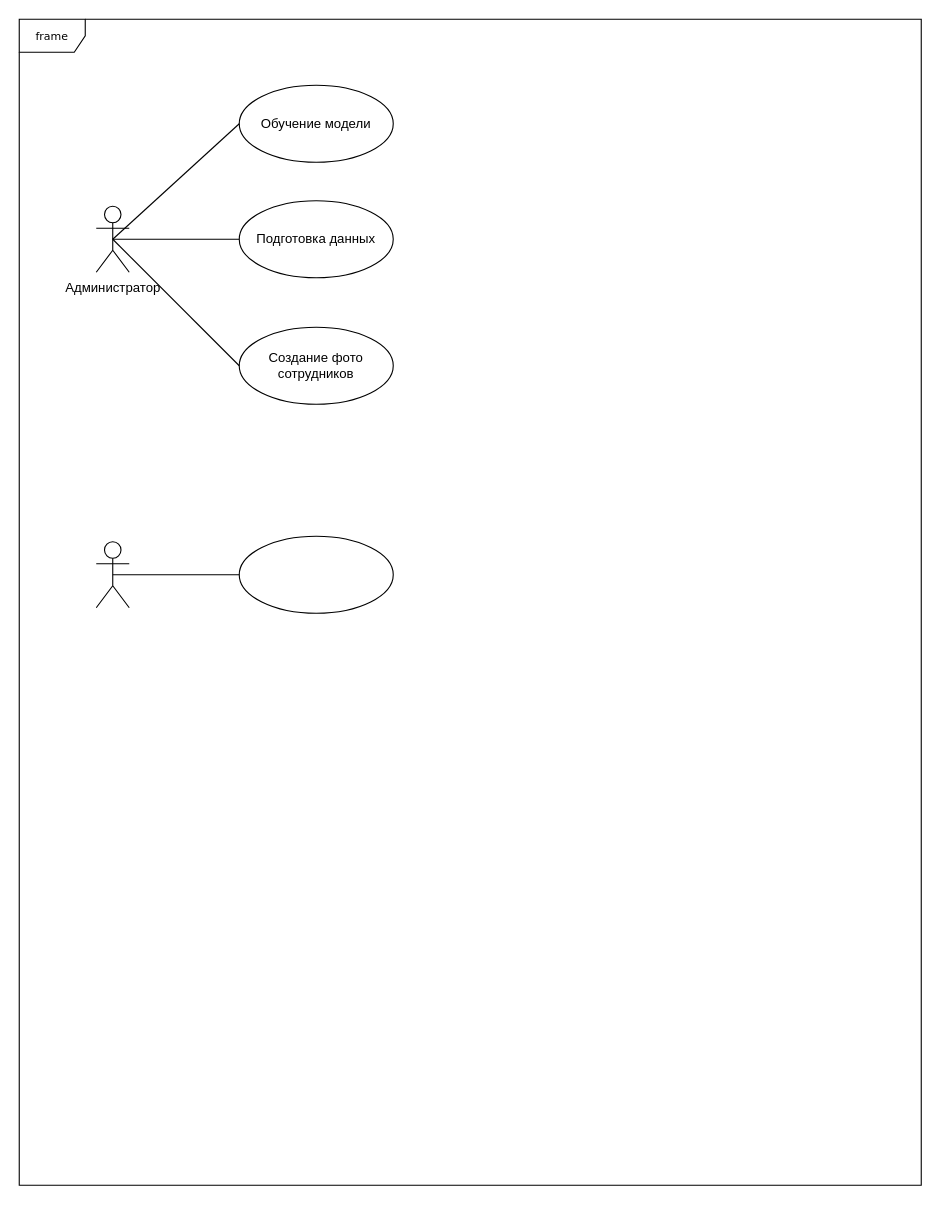
The diagram is 941 pixels wide and 1205 high, and some of its shapes have lost their labels. Each missing label, with the centre of its shape:
Предоставление лица: the point at 315,574
Сотрудник: the point at 112,574
